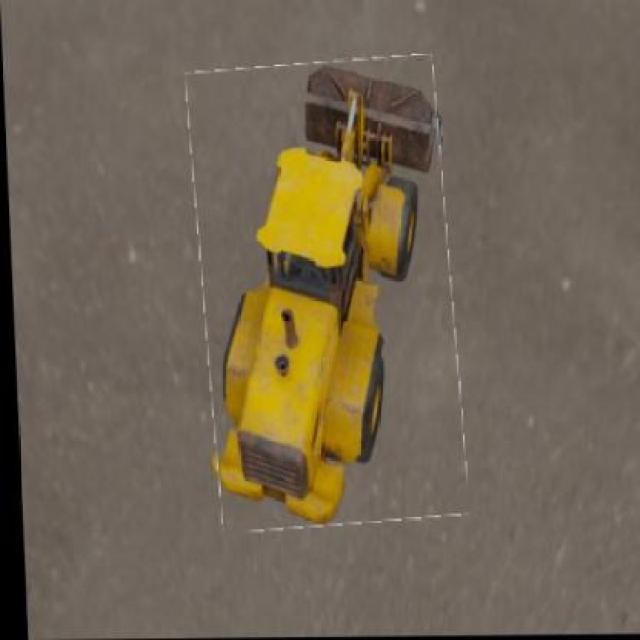buldozerpayloadergrader: (219, 62, 438, 524)
